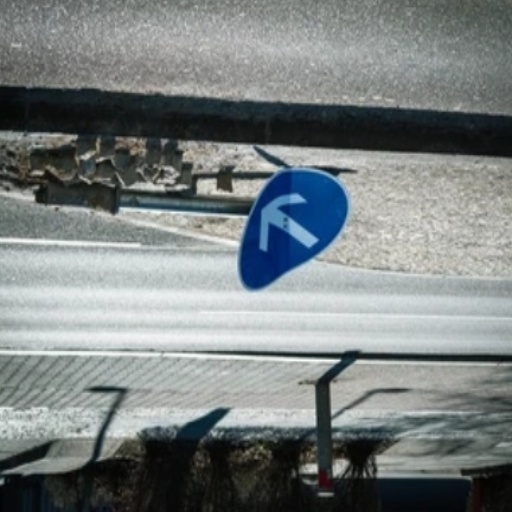Keep left: (213, 143, 364, 317)
